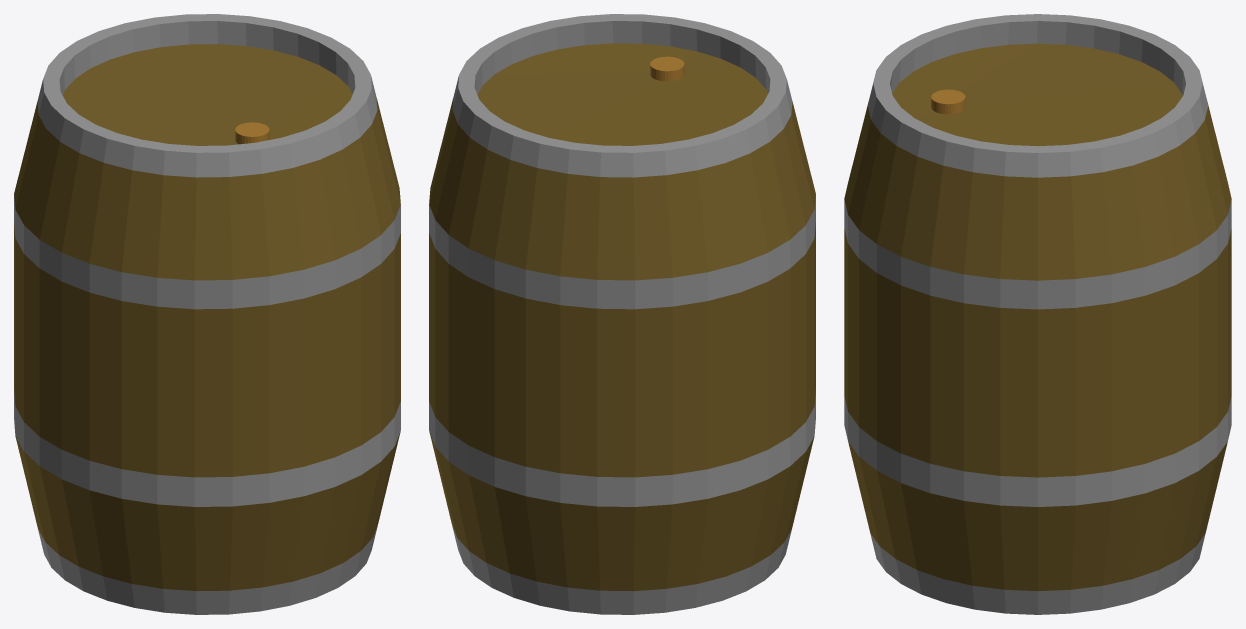
File: barrel.fbx
The picture shows the model from 3 angles, left to right: view 1: azimuth 30°, elevation 25°; view 2: azimuth 150°, elevation 25°; view 3: azimuth 270°, elevation 25°; orthographic projection.
Parts seen in each view (by area): view 1: Cylinder; view 2: Cylinder; view 3: Cylinder.
Part boxes in pixels (x1,y1,x2,y2): Cylinder: (14, 14, 400, 614); Cylinder: (429, 14, 815, 614); Cylinder: (844, 14, 1231, 614).
Bounding box in the file's own units: 278 × 365 × 278.
